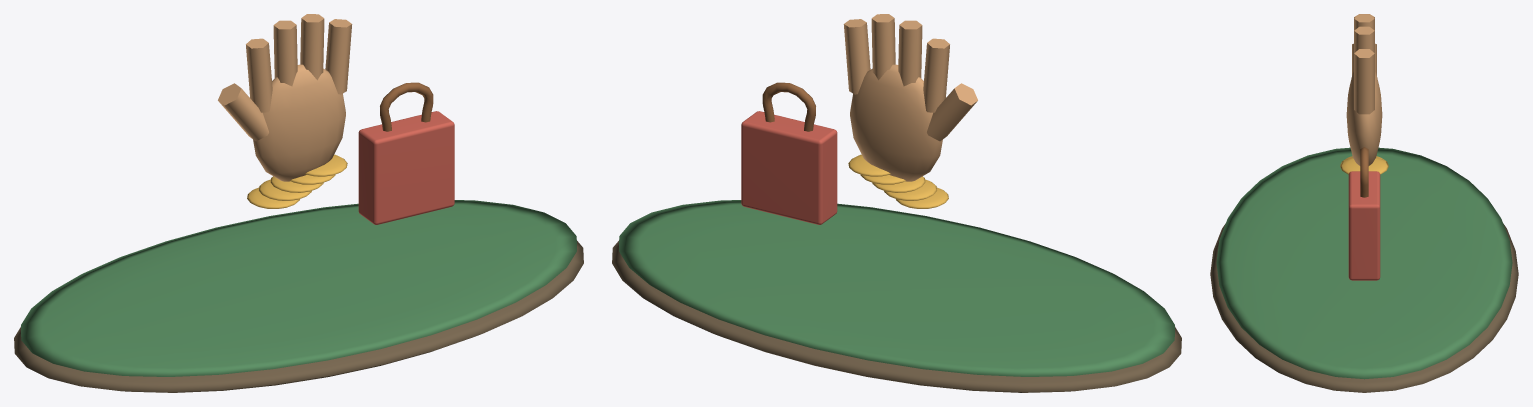
File: complete-first-have-a-thing.glb
The picture shows the model from 3 angles, left to right: view 1: azimuth 30°, elevation 25°; view 2: azimuth 150°, elevation 25°; view 3: azimuth 270°, elevation 25°; orthographic projection. The views are drawn at different scales.
Visible parts, largest first — view 1: complete-first-have-a-thing_surface_01, complete-first-have-a-thing_surface_02, complete-first-have-a-thing_surface_00, complete-first-have-a-thing_surface_05, complete-first-have-a-thing_surface_03, complete-first-have-a-thing_surface_04; view 2: complete-first-have-a-thing_surface_01, complete-first-have-a-thing_surface_02, complete-first-have-a-thing_surface_00, complete-first-have-a-thing_surface_05, complete-first-have-a-thing_surface_03, complete-first-have-a-thing_surface_04; view 3: complete-first-have-a-thing_surface_01, complete-first-have-a-thing_surface_00, complete-first-have-a-thing_surface_02, complete-first-have-a-thing_surface_05, complete-first-have-a-thing_surface_03, complete-first-have-a-thing_surface_04.
Boxes of the visible parts, bbox=[...] form: complete-first-have-a-thing_surface_01: bbox=[21, 200, 576, 376]; complete-first-have-a-thing_surface_02: bbox=[218, 14, 352, 181]; complete-first-have-a-thing_surface_00: bbox=[14, 241, 583, 392]; complete-first-have-a-thing_surface_05: bbox=[358, 111, 454, 224]; complete-first-have-a-thing_surface_03: bbox=[247, 154, 347, 208]; complete-first-have-a-thing_surface_04: bbox=[380, 82, 433, 131]; complete-first-have-a-thing_surface_01: bbox=[619, 200, 1174, 376]; complete-first-have-a-thing_surface_02: bbox=[843, 14, 977, 181]; complete-first-have-a-thing_surface_00: bbox=[612, 241, 1181, 392]; complete-first-have-a-thing_surface_05: bbox=[741, 111, 837, 224]; complete-first-have-a-thing_surface_03: bbox=[848, 154, 948, 208]; complete-first-have-a-thing_surface_04: bbox=[762, 82, 815, 131]; complete-first-have-a-thing_surface_01: bbox=[1216, 147, 1512, 379]; complete-first-have-a-thing_surface_00: bbox=[1210, 223, 1518, 392]; complete-first-have-a-thing_surface_02: bbox=[1346, 14, 1382, 165]; complete-first-have-a-thing_surface_05: bbox=[1348, 171, 1380, 280]; complete-first-have-a-thing_surface_03: bbox=[1340, 156, 1388, 174]; complete-first-have-a-thing_surface_04: bbox=[1360, 147, 1368, 197].
Bounding box in the file's own units: 4.56 × 2.36 × 2.5.
